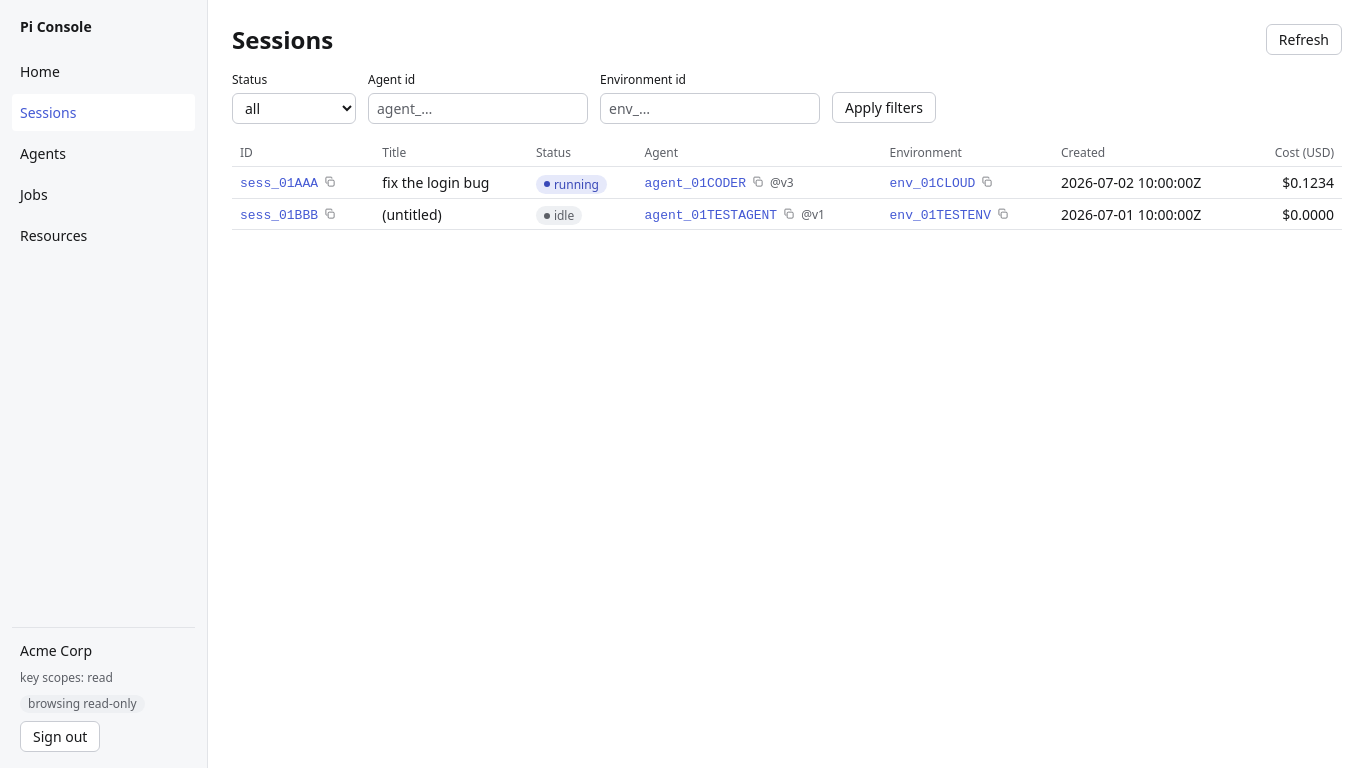
Test: sessions list (§7.3) › filters by status, agent id and environment id (server-side params)
Expected: the table named "Sessions" is shown, x1=232 y1=140 x2=1342 y2=230
Step 1. Select "running" in the dropdown labelled "Status" → (294, 109), box x1=232 y1=93 x2=356 y2=124
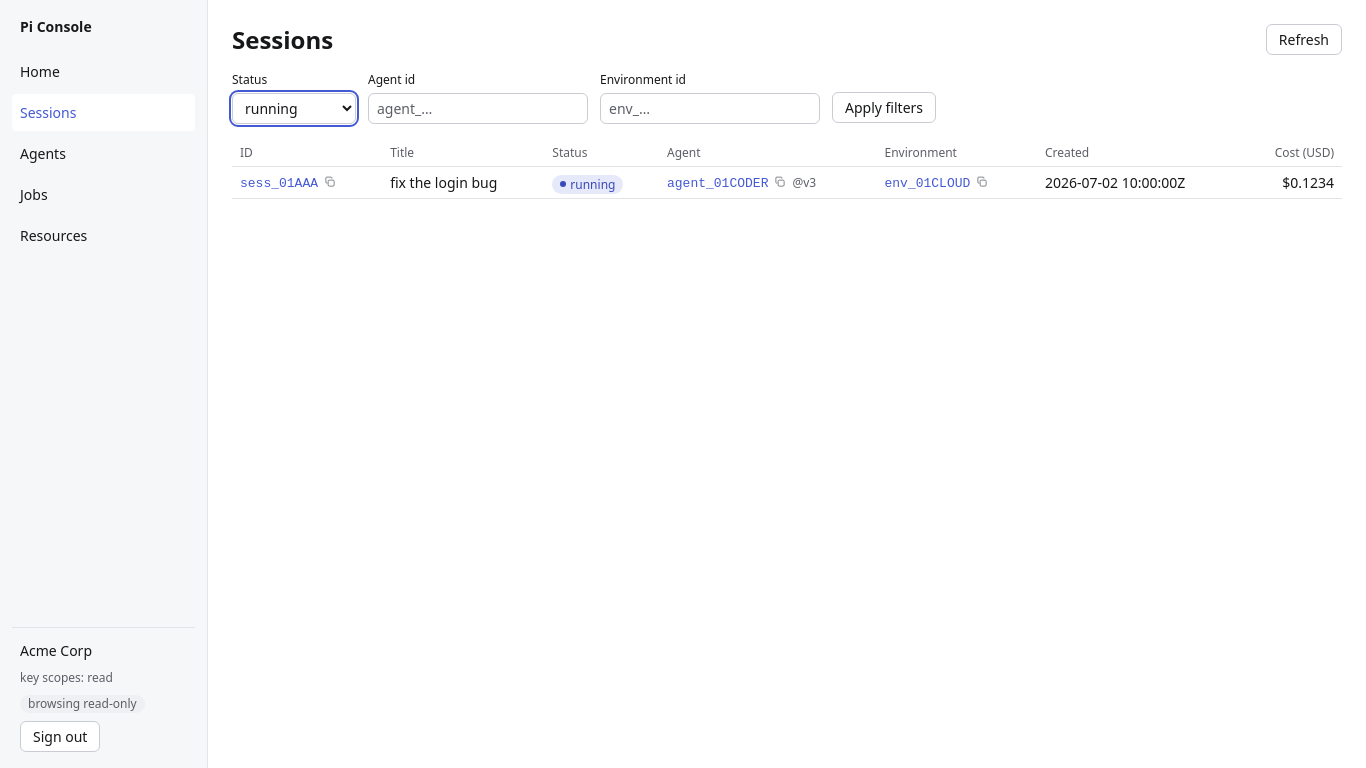
Expected: the text "fix the login bug" is shown, x1=382 y1=167 x2=544 y2=198
Now the text "(untitled)" is gone
Step 2. Type "agent_01OTHER" into the field labelled "Agent id" → (478, 109), box x1=368 y1=93 x2=588 y2=124
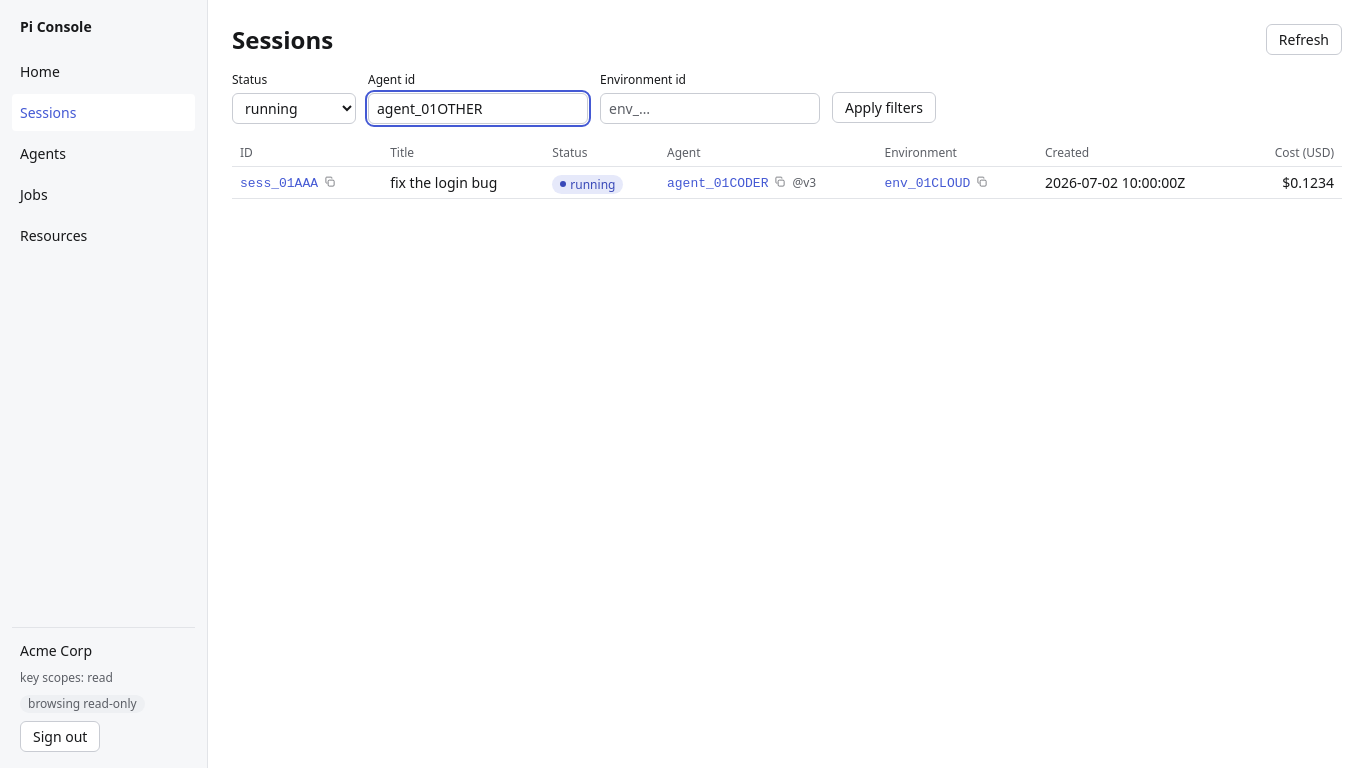
Step 3. Click the button "Apply filters" → (884, 108), box x1=832 y1=92 x2=936 y2=123
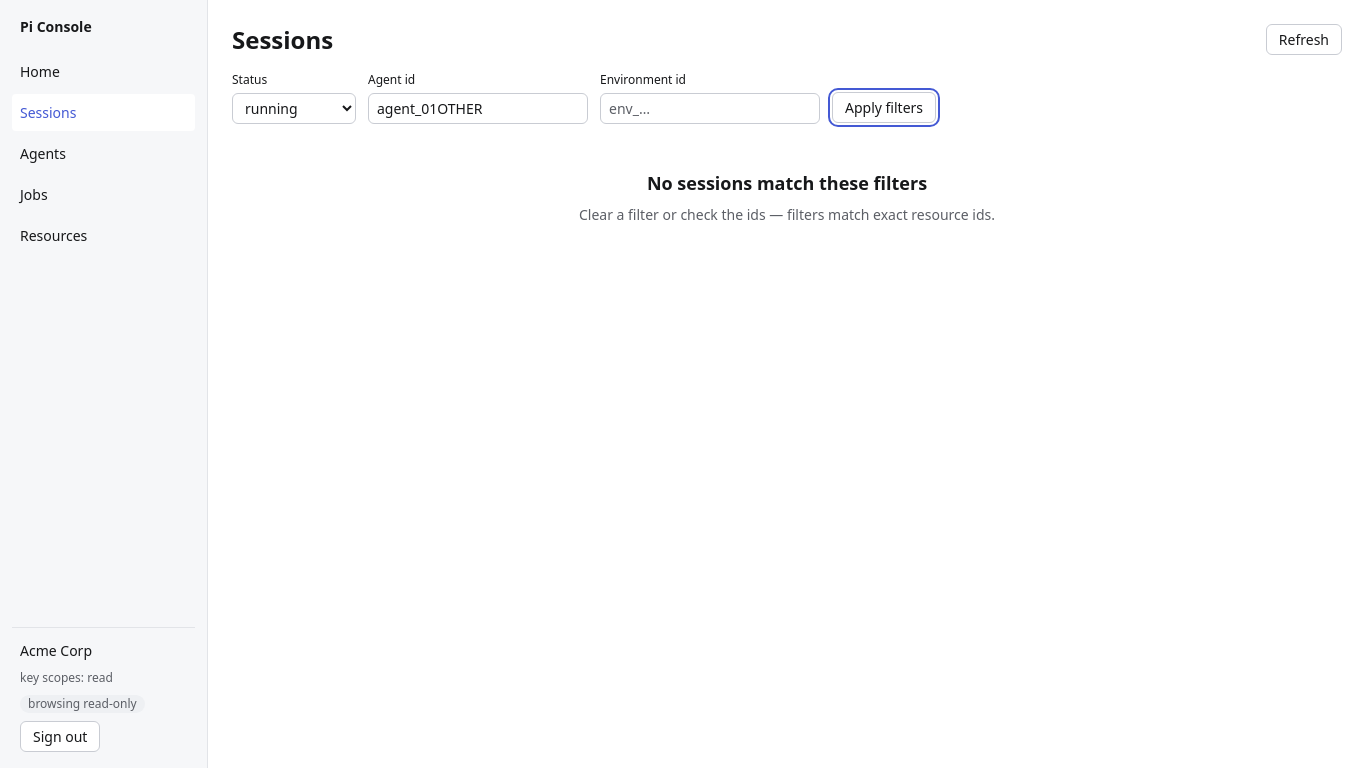
Now the heading "No sessions match these filters" is shown, box x1=647 y1=172 x2=927 y2=196
